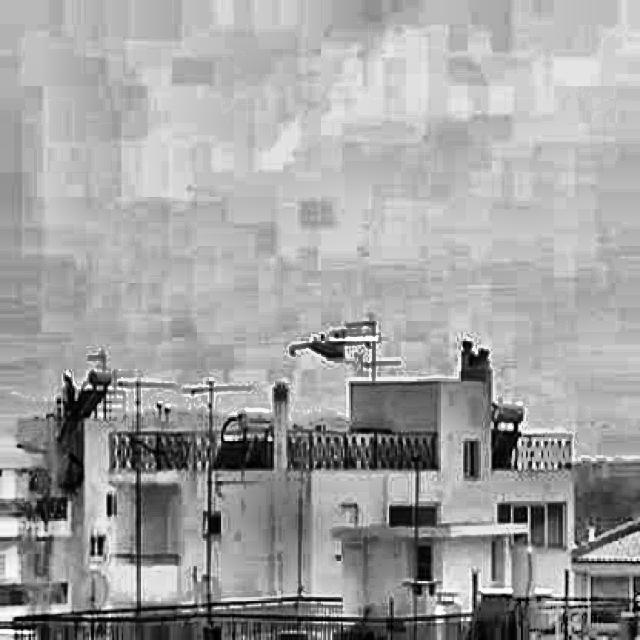Be200: (290, 329, 372, 360)
